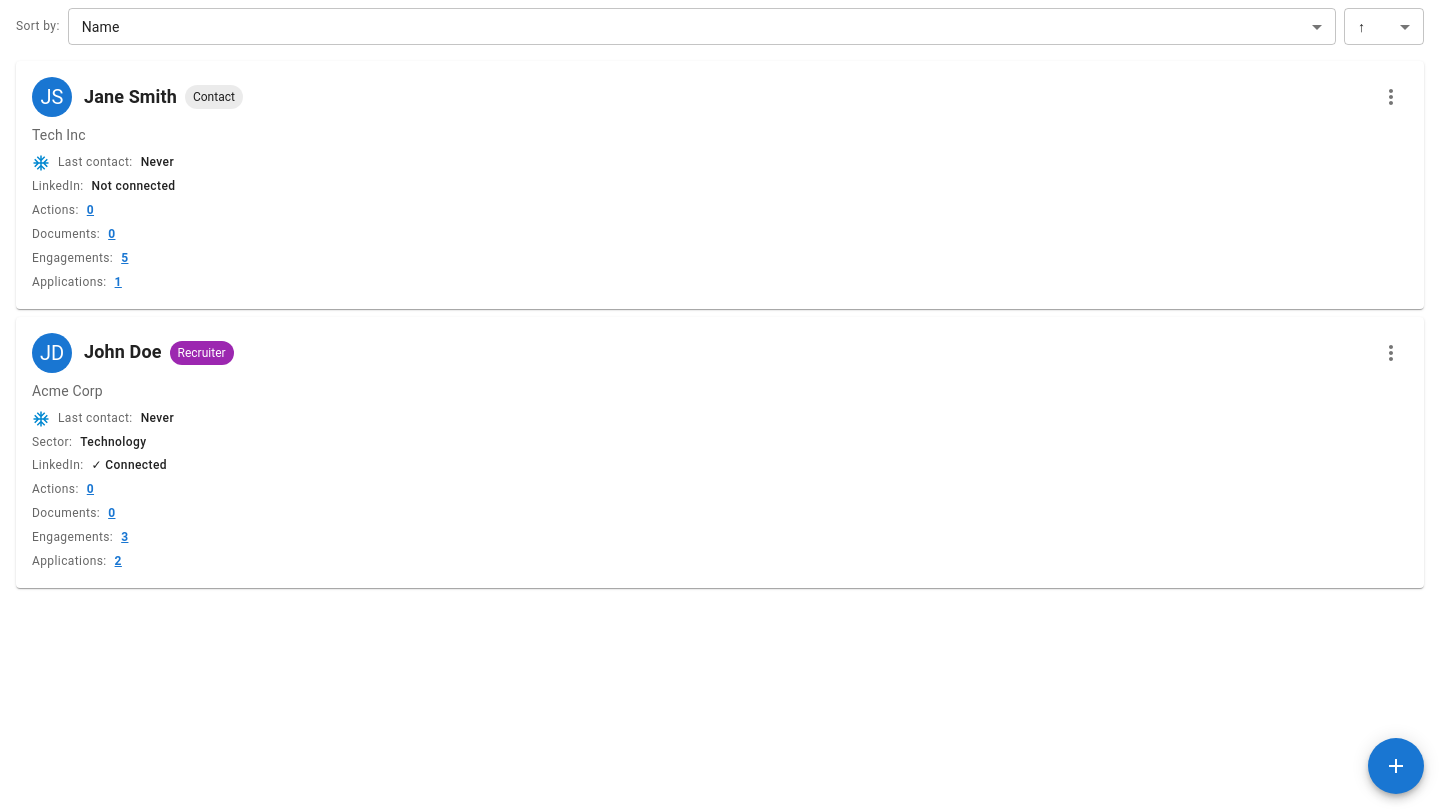
HubMainView Mobile Modals › Contact Engagements Modal › should close engagements modal when clicking close button
The width and height of the screenshot is (1440, 810).
Expected: the text "John Doe" is shown, [84,338,162,367]
Note: Click engagements count
Click the button named "Engagements for John Doe": (125, 538) [121,528,128,548]
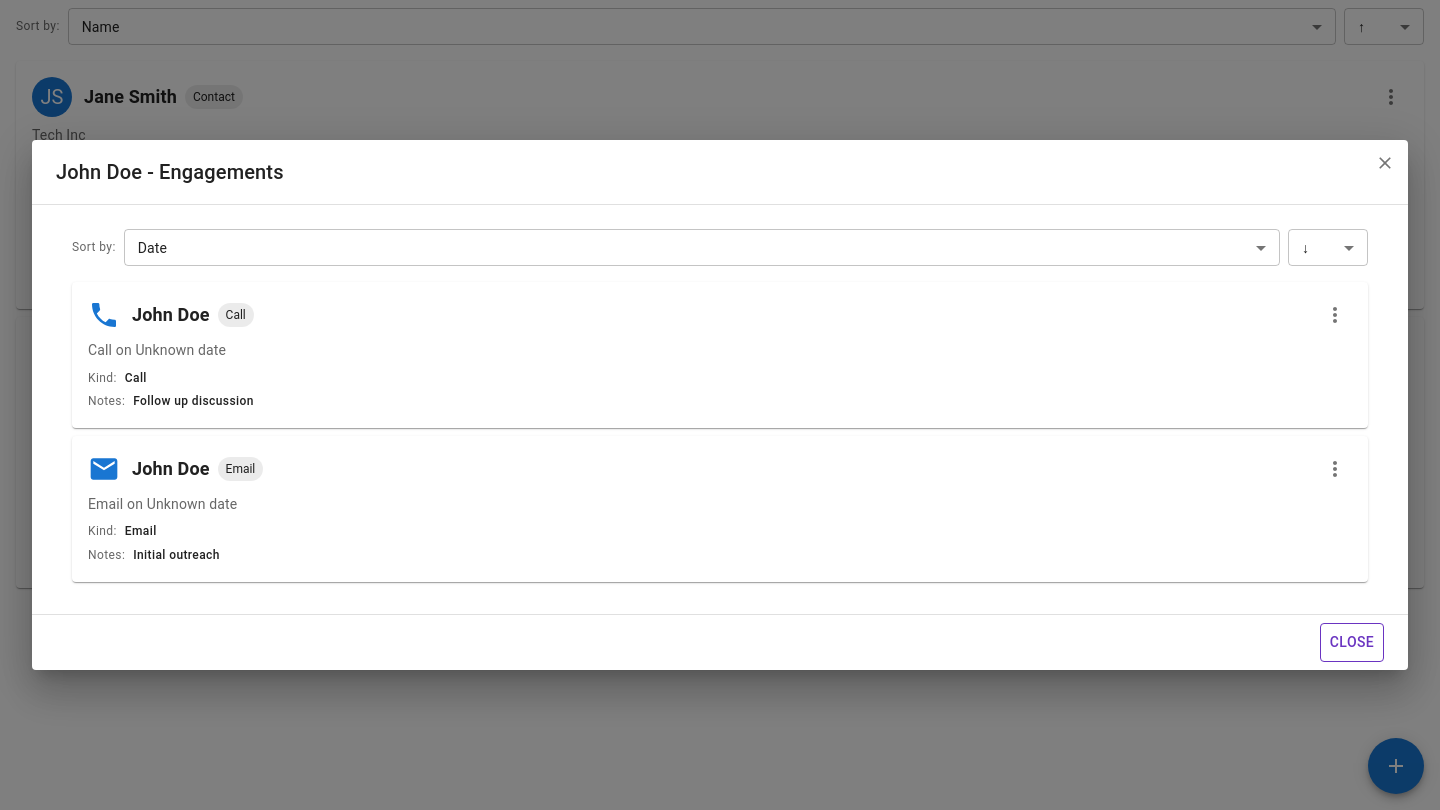
Now the dialog is shown
Now the heading "John Doe - Engagements" is shown, box [56,160,284,184]
Note: Click close button
Click the button "Close": (1352, 642) [1320,623,1384,662]
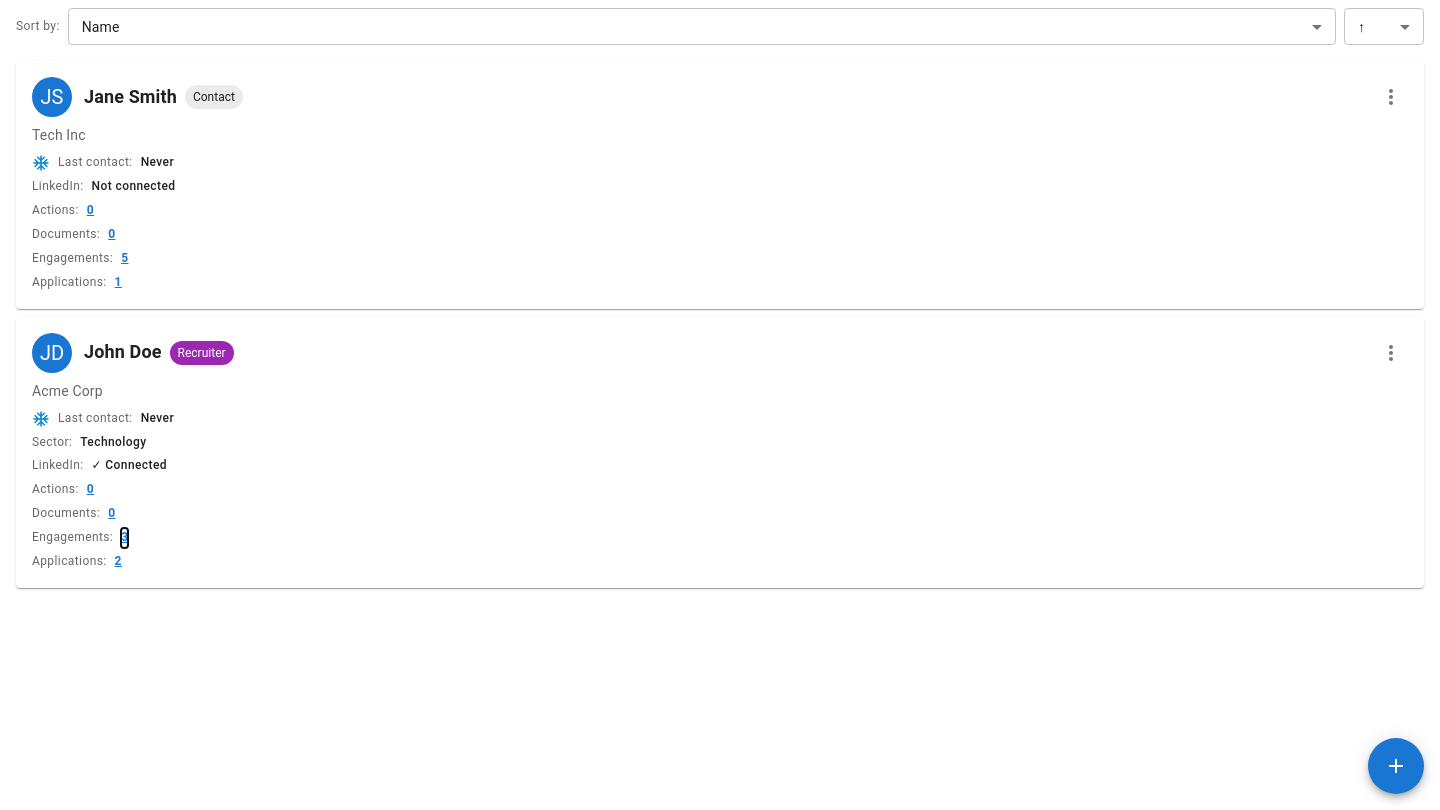
Now the button "Follow up discussion" is gone
